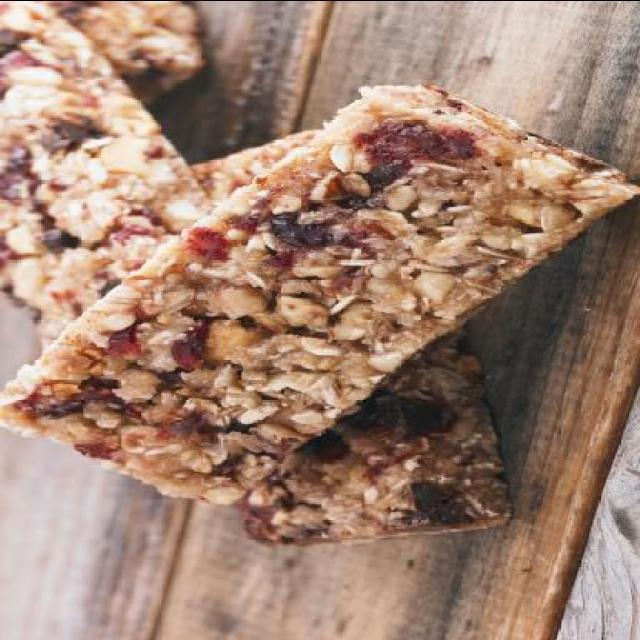Cereal bar packaged: (3, 84, 626, 504)
